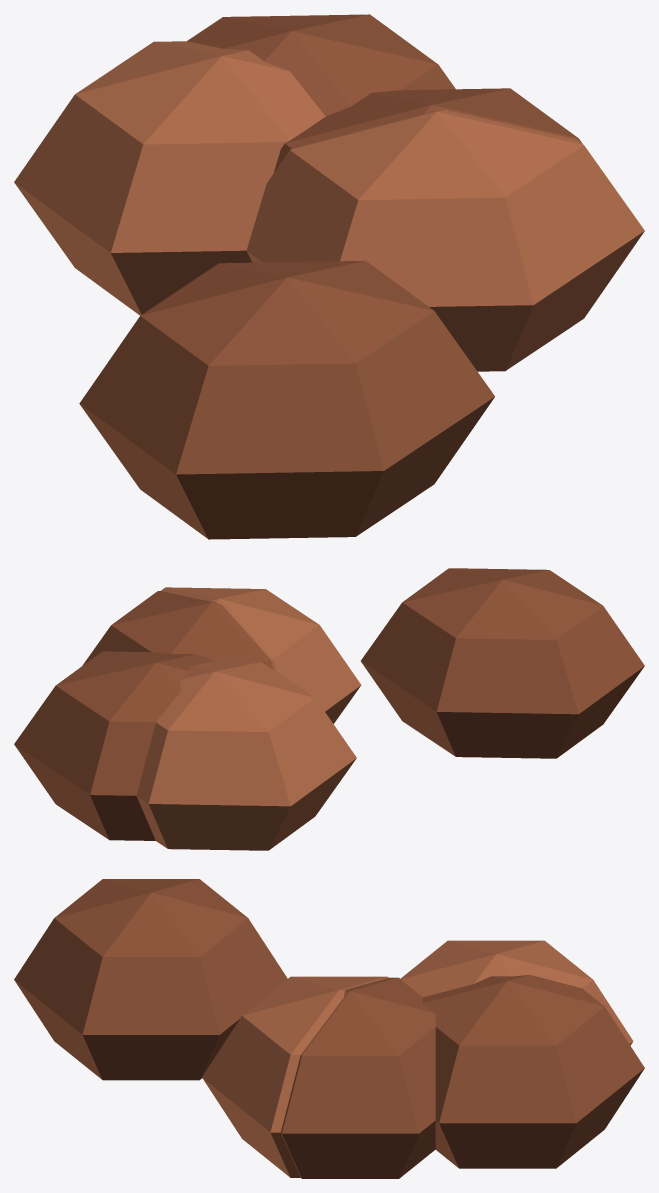
The model's file is pile_clay_1.glb.
The picture shows the model from 3 angles, top to bottom: view 1: azimuth 30°, elevation 25°; view 2: azimuth 150°, elevation 25°; view 3: azimuth 270°, elevation 25°; orthographic projection. The views are drawn at different scales.
Visible parts, largest first — view 1: pile_clay_1; view 2: pile_clay_1; view 3: pile_clay_1.
Part boxes in pixels (left/top/right/bottom): pile_clay_1: left=14, top=14, right=644, bottom=539; pile_clay_1: left=14, top=568, right=644, bottom=850; pile_clay_1: left=14, top=879, right=644, bottom=1178.
Bounding box in the file's own units: 0.8656 × 0.336 × 1.1.
